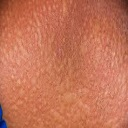Measles: (10, 19, 122, 122)
